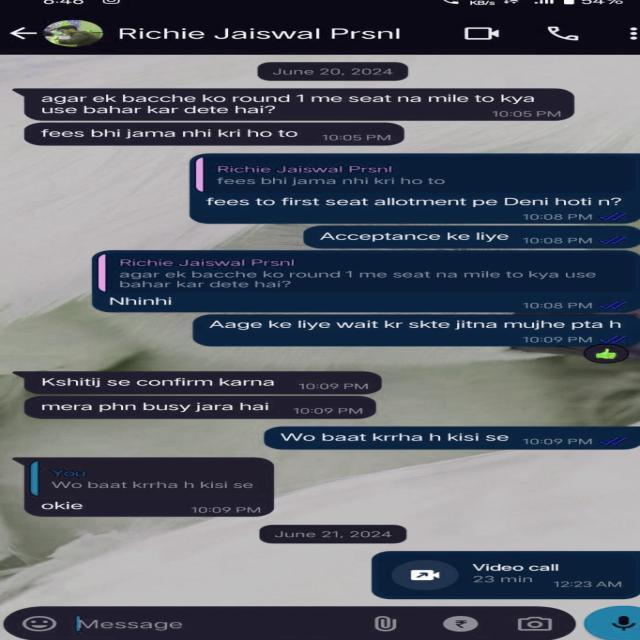scam: (37, 91, 544, 119), (35, 373, 301, 395), (35, 397, 283, 416), (34, 125, 316, 140), (35, 496, 97, 514)
